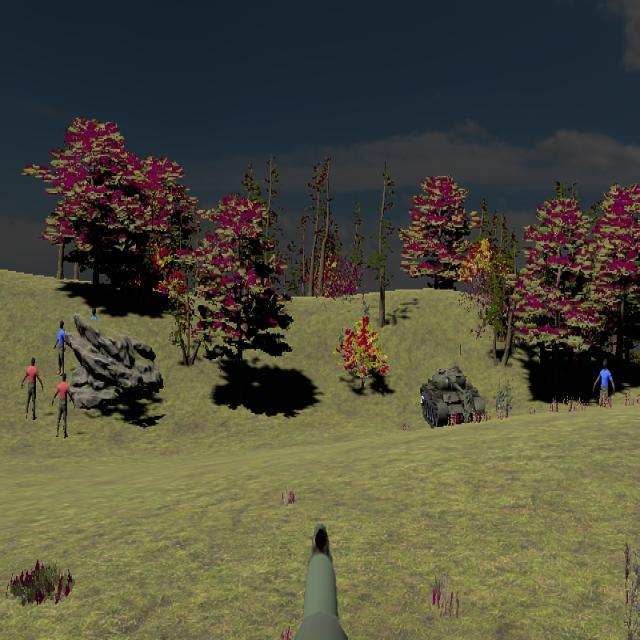Human: (52, 371, 75, 439), (22, 356, 44, 421), (593, 360, 615, 410), (54, 319, 66, 377)
Tank: (419, 365, 485, 430)
